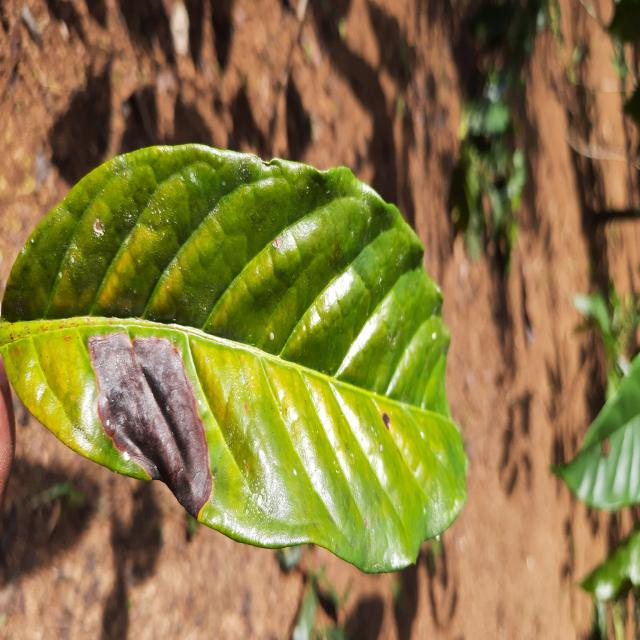Enfermedad-Mancha-de-hierro: (0, 143, 469, 578)
